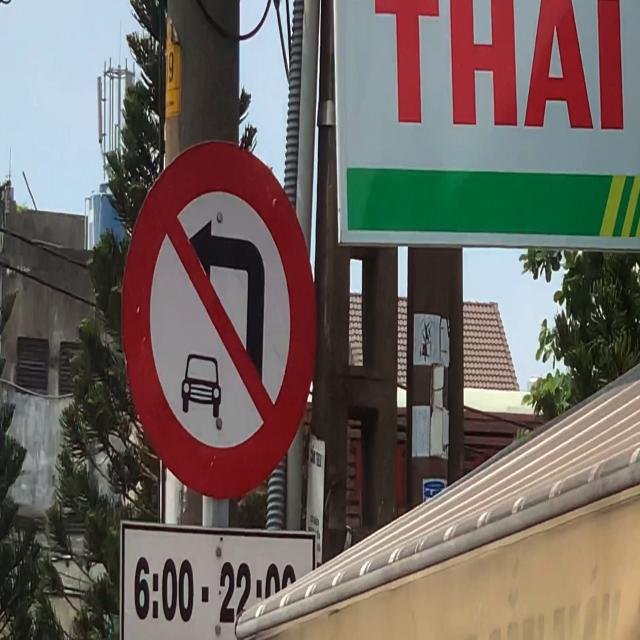Cam re trai: (124, 137, 316, 499)
